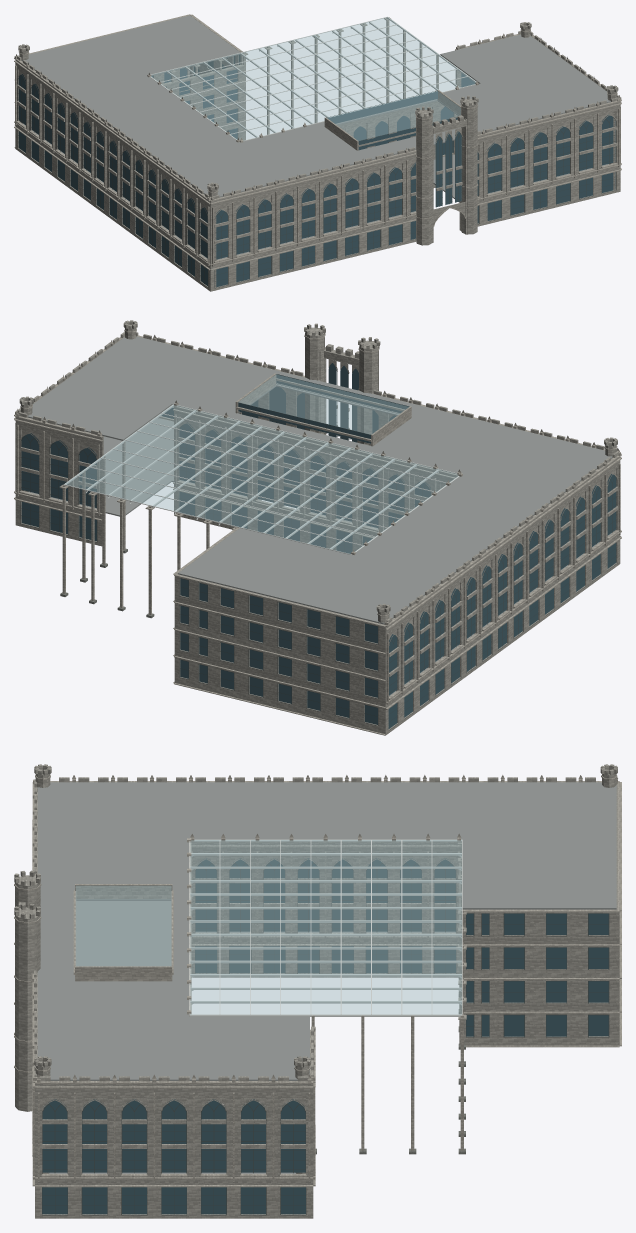
The picture shows the model from 3 angles, top to bottom: view 1: azimuth 30°, elevation 25°; view 2: azimuth 150°, elevation 25°; view 3: azimuth 270°, elevation 25°; orthographic projection. The views are drawn at different scales.
Visible parts, largest first — view 1: skFuture__stone, skFuture__roof, skFuture__glass, skFuture__glassRoof, skFuture__cream, skFuture__frame, skFuture__light; view 2: skFuture__roof, skFuture__stone, skFuture__glassRoof, skFuture__glass, skFuture__cream, skFuture__light, skFuture__frame; view 3: skFuture__roof, skFuture__stone, skFuture__glassRoof, skFuture__glass, skFuture__cream, skFuture__light, skFuture__frame.
Part boxes in pixels (box(x1,y1,x2,y2)): skFuture__stone: box(15, 22, 620, 291); skFuture__roof: box(22, 15, 610, 259); skFuture__glass: box(18, 54, 615, 287); skFuture__glassRoof: box(151, 17, 475, 140); skFuture__cream: box(14, 14, 621, 270); skFuture__frame: box(17, 75, 616, 288); skFuture__light: box(150, 16, 479, 142); skFuture__roof: box(27, 336, 612, 695); skFuture__stone: box(15, 320, 620, 735); skFuture__glassRoof: box(65, 374, 458, 553); skFuture__glass: box(21, 363, 616, 728); skFuture__cream: box(14, 328, 621, 735); skFuture__light: box(63, 404, 459, 554); skFuture__frame: box(20, 369, 617, 730); skFuture__roof: box(37, 782, 616, 1173); skFuture__stone: box(14, 764, 619, 1218); skFuture__glassRoof: box(76, 840, 461, 1014); skFuture__glass: box(42, 858, 608, 1214); skFuture__cream: box(14, 775, 621, 1187); skFuture__light: box(189, 839, 462, 1016); skFuture__frame: box(42, 863, 609, 1215).
Bounding box in the file's own units: 103 × 31.28 × 87.4.
8 materials, 3 textured.
